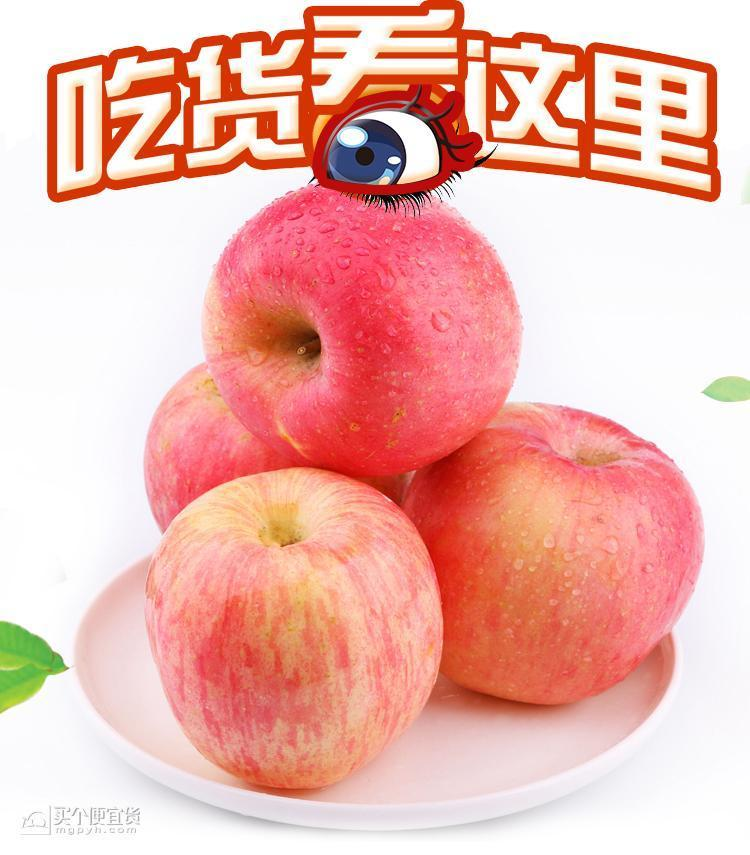apple: (202, 177, 519, 495), (395, 390, 706, 712), (141, 469, 452, 791)
